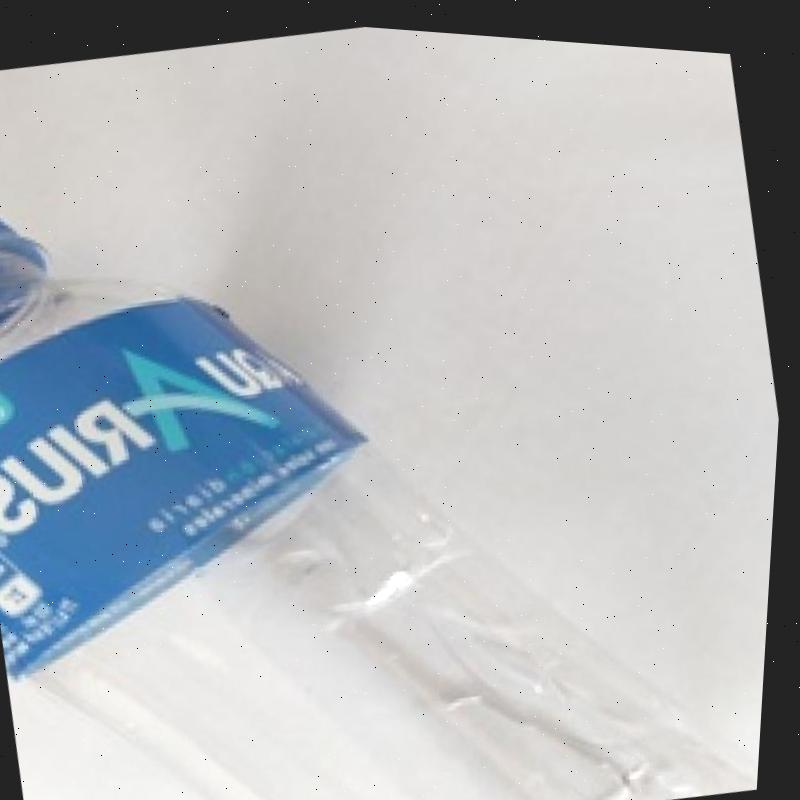botella: (0, 43, 798, 800)
